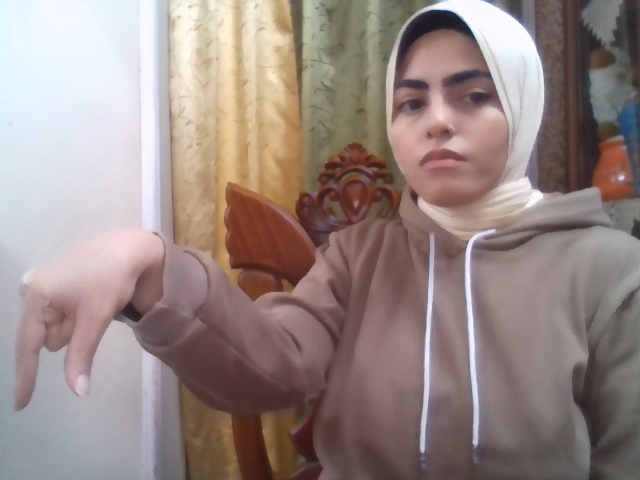Q: (10, 226, 140, 411)
